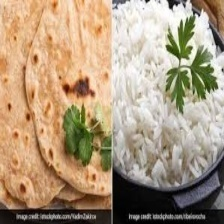rice: (112, 0, 224, 197)
